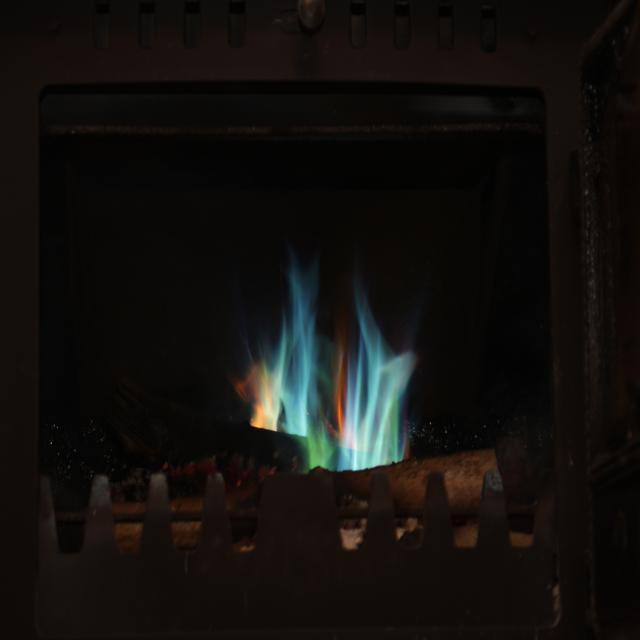Fire: (350, 323, 418, 467), (281, 316, 327, 444)
